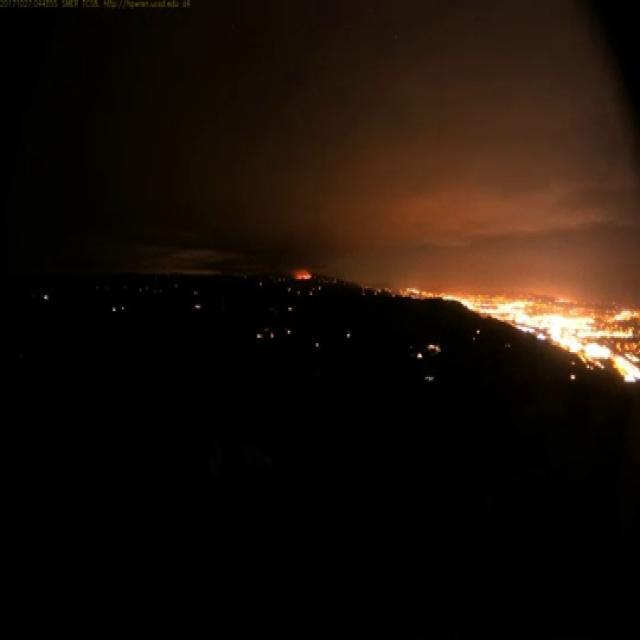Fire: (295, 265, 314, 279)
